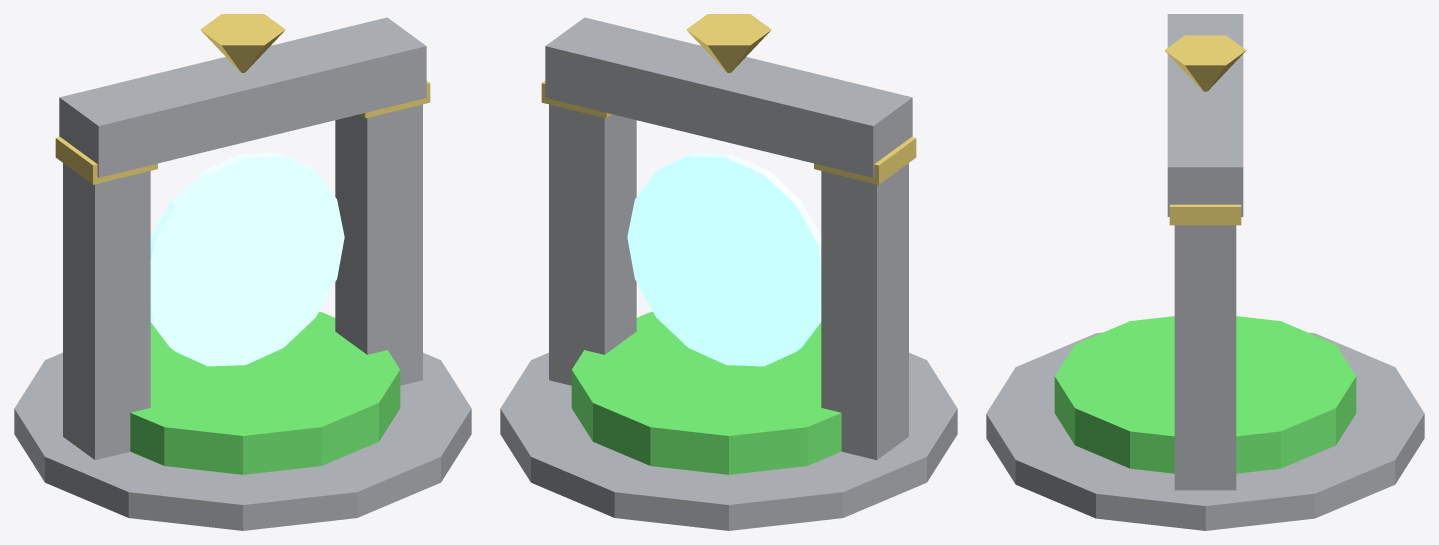
The model's file is TeleporterArch.fbx.
3 views of the same model, side by side, from view 1: azimuth 30°, elevation 25°; view 2: azimuth 150°, elevation 25°; view 3: azimuth 270°, elevation 25° (orthographic). The views are drawn at different scales.
Visible parts, largest first — view 1: PortalVisual, Pedestal_Base, Arch_Top, TeleporterTouchZone, Pillar_L, Pillar_R, Rune_Capstone, Trim_L; view 2: PortalVisual, Pedestal_Base, Arch_Top, TeleporterTouchZone, Pillar_L, Pillar_R, Rune_Capstone, Trim_L; view 3: Pedestal_Base, TeleporterTouchZone, Pillar_R, Arch_Top, Rune_Capstone, Trim_R.
Part boxes in pixels (x1,y1,x2,y2): PortalVisual: (150, 152, 344, 366); Pedestal_Base: (14, 352, 471, 530); Arch_Top: (59, 17, 426, 177); TeleporterTouchZone: (130, 312, 400, 474); Pillar_L: (63, 163, 150, 459); Pillar_R: (335, 104, 422, 385); Rune_Capstone: (200, 14, 285, 72); Trim_L: (55, 137, 157, 184); PortalVisual: (627, 152, 821, 366); Pedestal_Base: (500, 352, 957, 530); Arch_Top: (545, 17, 912, 177); TeleporterTouchZone: (571, 312, 841, 474); Pillar_L: (821, 163, 908, 459); Pillar_R: (549, 104, 636, 385); Rune_Capstone: (686, 14, 771, 72); Trim_L: (814, 137, 916, 184); Pedestal_Base: (986, 332, 1424, 530); TeleporterTouchZone: (1054, 316, 1356, 473); Pillar_R: (1174, 225, 1236, 490); Arch_Top: (1167, 14, 1243, 216); Rune_Capstone: (1164, 35, 1246, 91); Trim_R: (1169, 204, 1241, 225).
Size of the model in its own units: 6.4 by 6.4 by 6.25.
